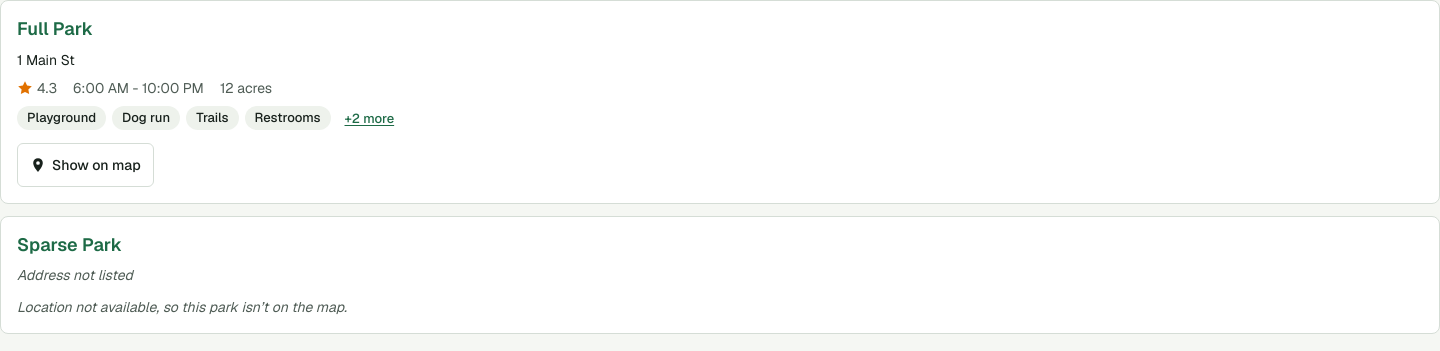
Test: ParkList › expands and collapses the remaining amenities in place
Step 1. Click the button with aria-label "+2 more amenities" → (369, 118), box left=336, top=106, right=402, bottom=130
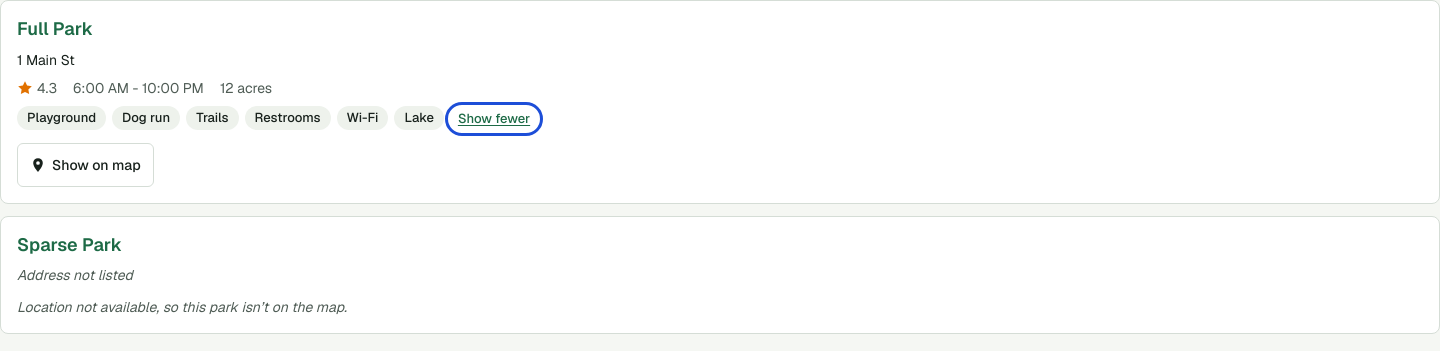
Expected: the list named "Amenities" shows "Lake", left=404, top=109, right=434, bottom=126
Expected: the button with aria-label "Show fewer amenities" is expanded
Step 2. Click the button with aria-label "Show fewer amenities" → (494, 118), box left=450, top=106, right=538, bottom=130
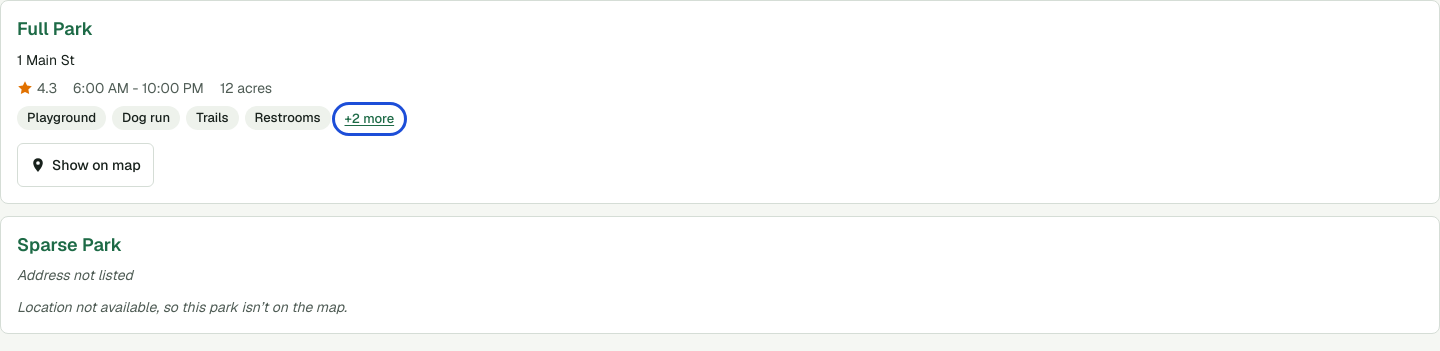
Expected: the list named "Amenities" no longer shows "Lake", left=17, top=106, right=402, bottom=130
